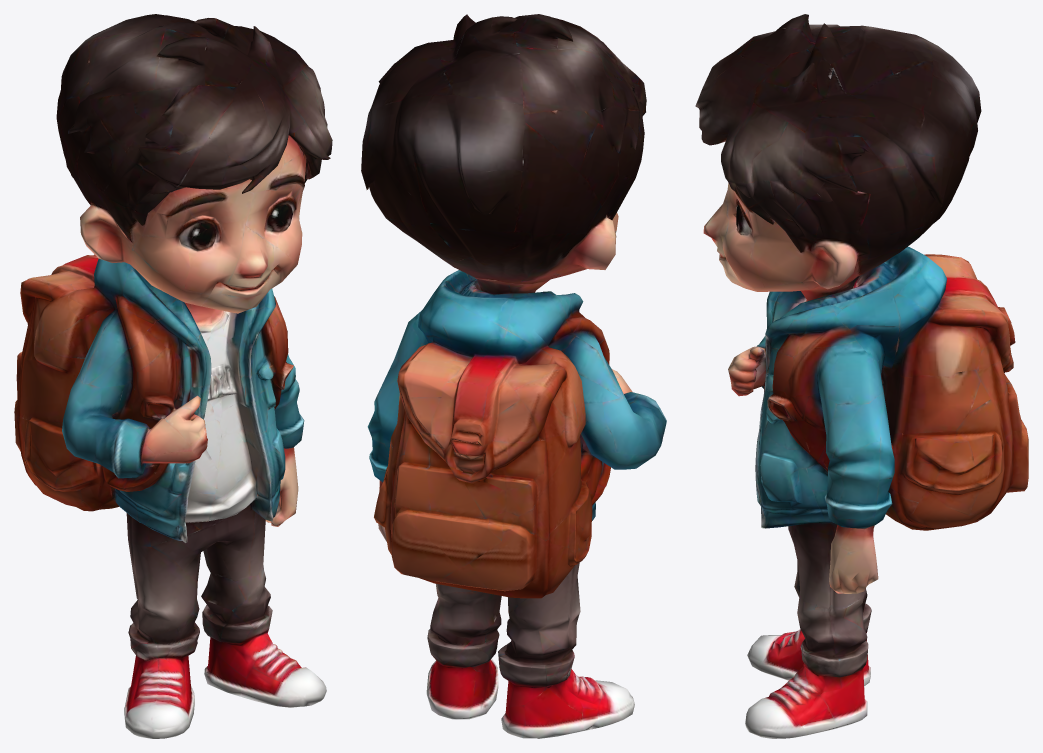
Rendered from little_backpacker.glb.
3 renders of one model, left to right at view 1: azimuth 30°, elevation 25°; view 2: azimuth 150°, elevation 25°; view 3: azimuth 270°, elevation 25°, orthographic. The views are drawn at different scales.
Size of the model in its own units: 0.7578 by 1.9 by 0.8585.
1 material, 1 textured.
